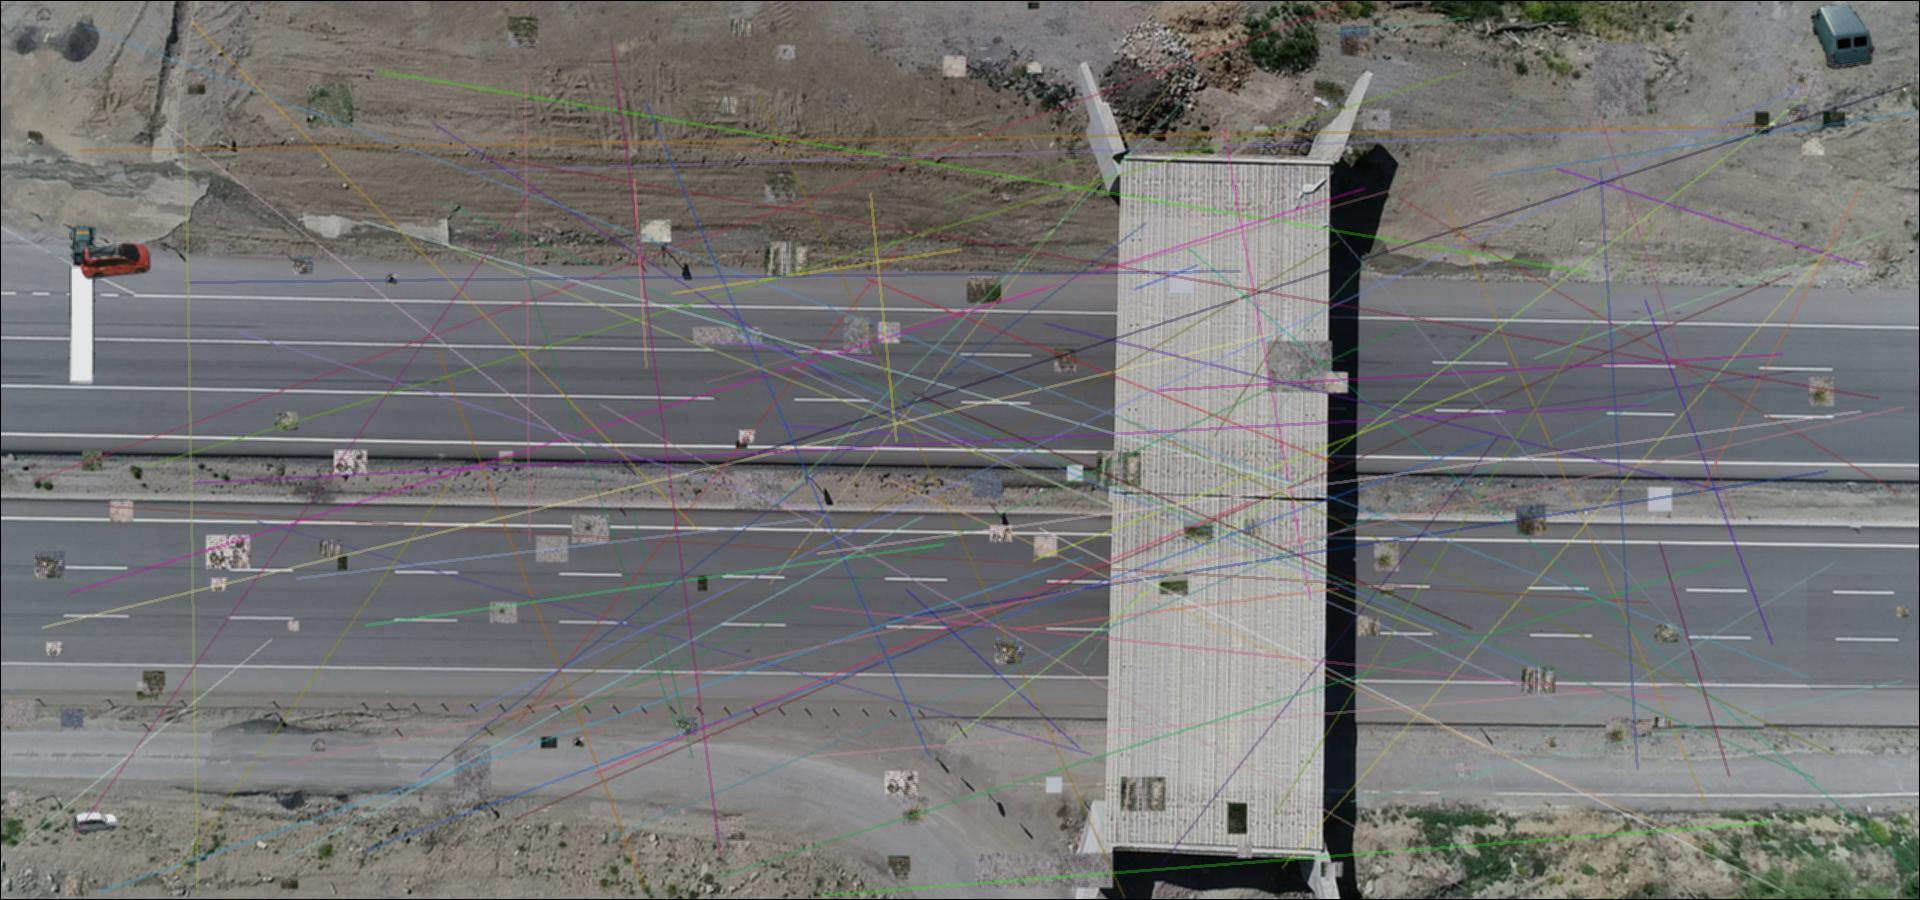arac: (62, 225, 102, 386), (1811, 5, 1875, 69), (80, 240, 151, 280), (73, 811, 120, 836)
